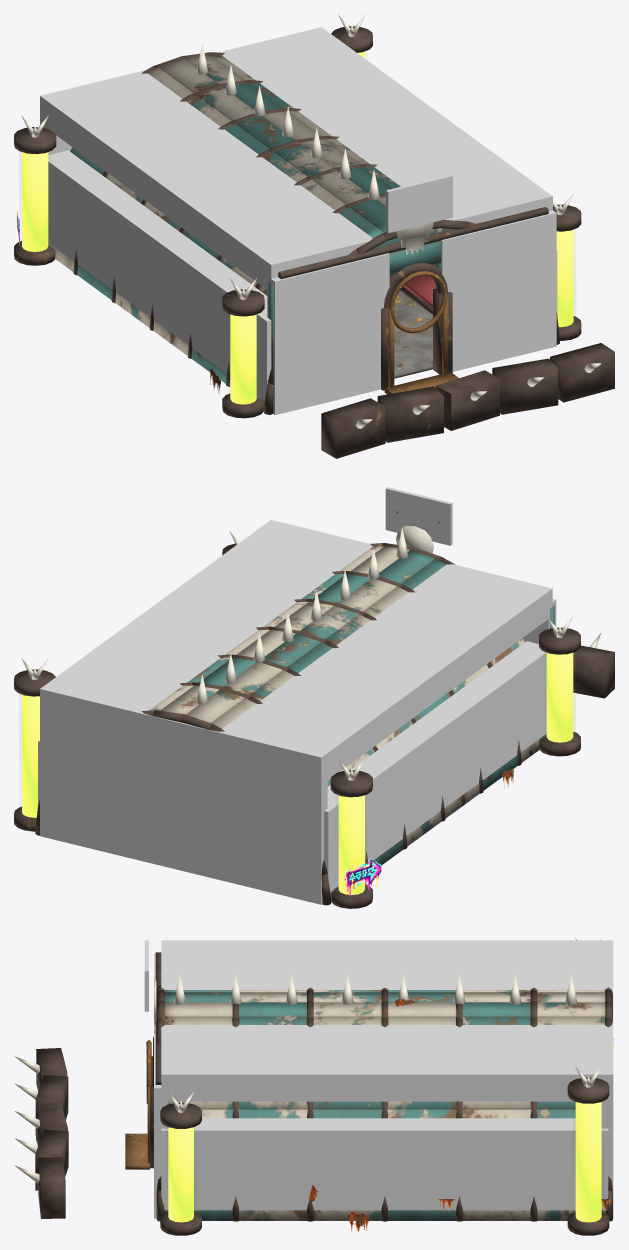
Rendered from goo_barracks.glb.
3 views of the same model, one above another, from view 1: azimuth 30°, elevation 25°; view 2: azimuth 150°, elevation 25°; view 3: azimuth 270°, elevation 25° (orthographic). The views are drawn at different scales.
Parts seen in each view (by area): view 1: col_bld_goo_barracks_ends_2, goo_barracks_body_a, goo_barracks_body_b, col_bld_goo_barracks_ends_0, col_bld_goo_barracks_ends_4, col_bld_goo_barracks_ends_5, goo_barracks_plain, col_bld_goo_barracks_SIGN_f_barracks, col_bld_goo_barracks_ends_3; view 2: col_bld_goo_barracks_ends_2, col_bld_goo_barracks_ends_3, col_bld_goo_barracks_ends_0, goo_barracks_body_a, goo_barracks_plain, goo_barracks_body_b, col_bld_goo_barracks_SIGN_f_barracks; view 3: col_bld_goo_barracks_ends_2, col_bld_goo_barracks_ends_1, goo_barracks_body_b, goo_barracks_plain, goo_barracks_body_a, col_bld_goo_barracks_ends_3, col_bld_goo_barracks_ends_5, goo_barracks_decal.
Part boxes in pixels (x1,y1,x2,y2): col_bld_goo_barracks_ends_2: (42,32,552,290); goo_barracks_body_a: (14,56,451,458); goo_barracks_body_b: (182,26,614,430); col_bld_goo_barracks_ends_0: (48,150,271,400); col_bld_goo_barracks_ends_4: (267,253,389,415); col_bld_goo_barracks_ends_5: (434,210,556,371); goo_barracks_plain: (16,14,601,428); col_bld_goo_barracks_SIGN_f_barracks: (386,174,452,233); col_bld_goo_barracks_ends_3: (40,27,327,154); col_bld_goo_barracks_ends_2: (47,520,552,782); col_bld_goo_barracks_ends_3: (40,684,327,904); col_bld_goo_barracks_ends_0: (324,641,546,891); goo_barracks_body_a: (181,521,614,908); goo_barracks_plain: (21,525,600,895); goo_barracks_body_b: (14,511,411,835); col_bld_goo_barracks_SIGN_f_barracks: (385,487,452,545); col_bld_goo_barracks_ends_2: (161,940,600,1101); col_bld_goo_barracks_ends_1: (161,1118,608,1210); goo_barracks_body_b: (35,952,612,1235); goo_barracks_plain: (14,938,614,1222); goo_barracks_body_a: (35,985,612,1135); col_bld_goo_barracks_ends_3: (601,940,613,1218); col_bld_goo_barracks_ends_5: (154,1033,168,1218); goo_barracks_decal: (309,998,611,1231).
Bounding box in the file's own units: 8.12 × 4.66 × 12.1.
Materials: 14 (6 with a texture image).
